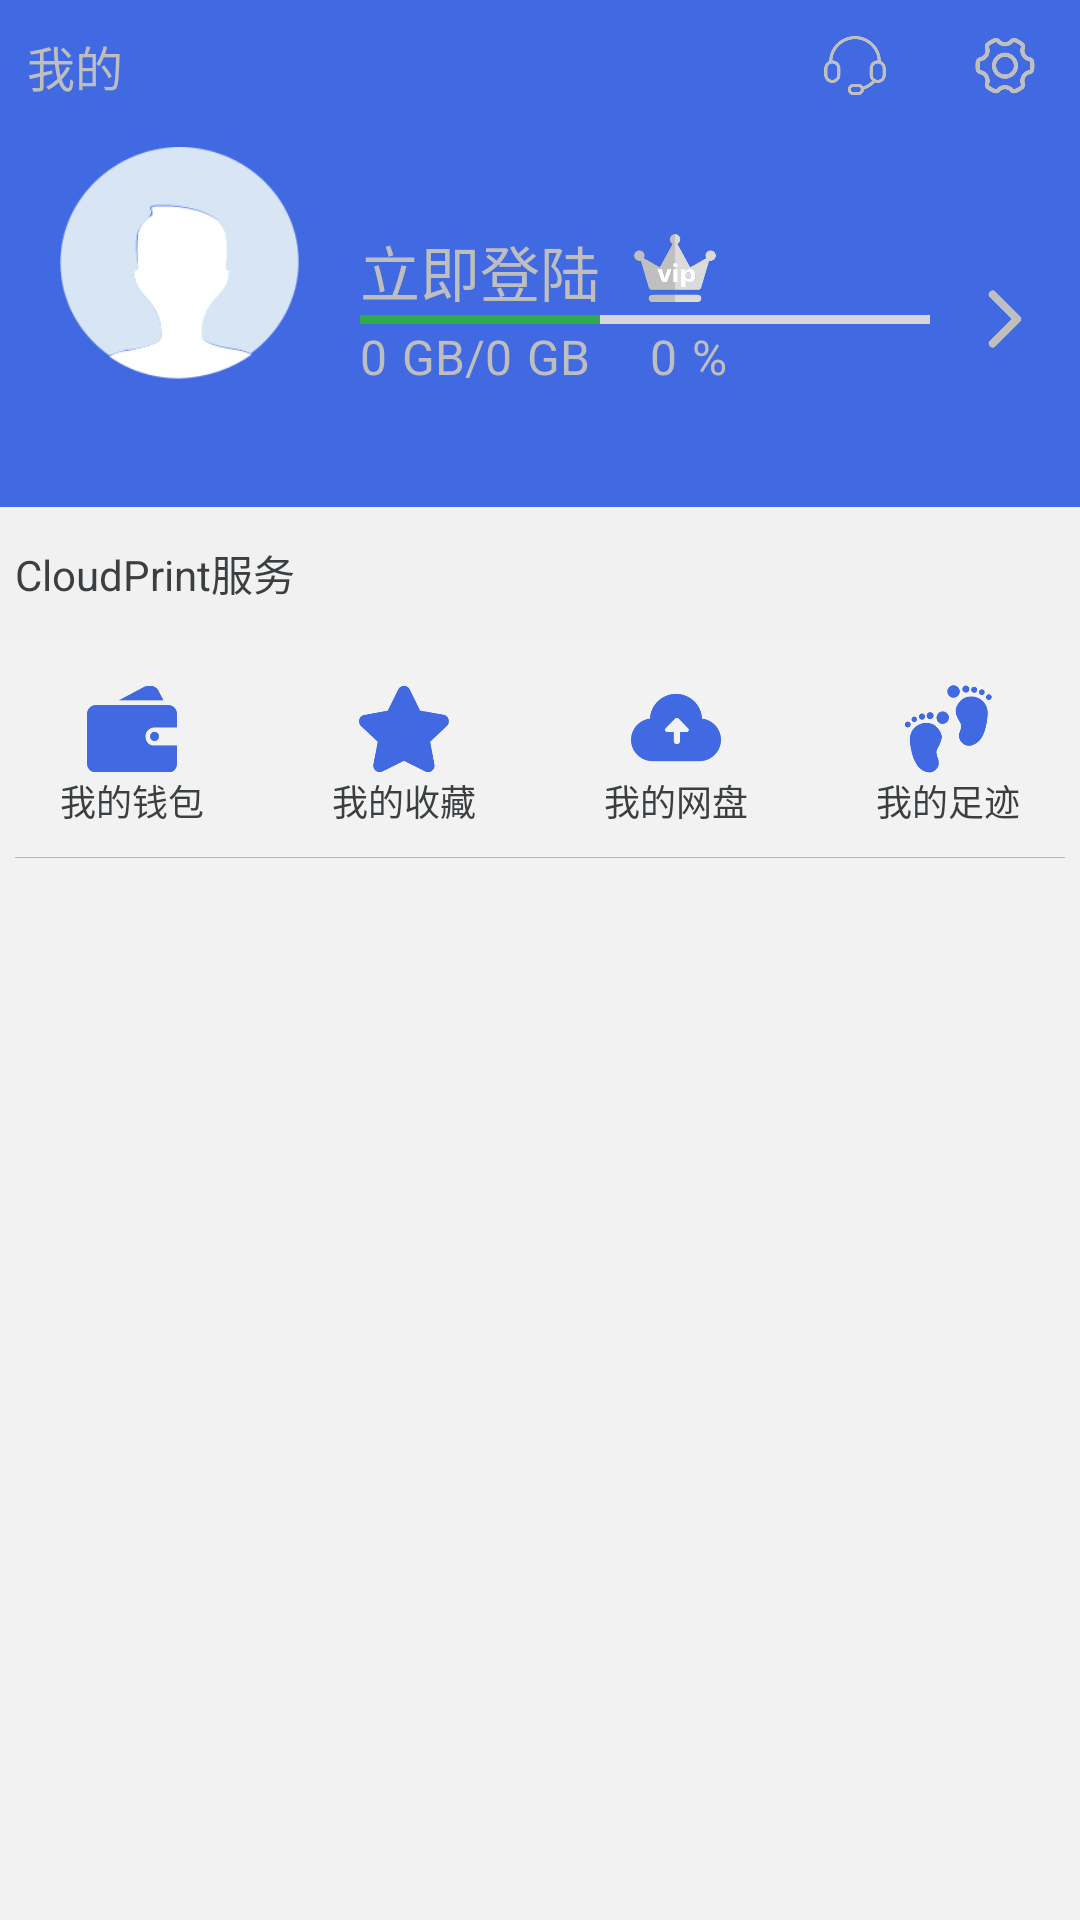

Locate icon controls on the screen. Image size 1080px x 1920px, boxes as (x1, y1, x2, y2).
recently: (905, 685, 992, 773)
serve: (824, 36, 886, 95)
setup: (975, 38, 1035, 94)
